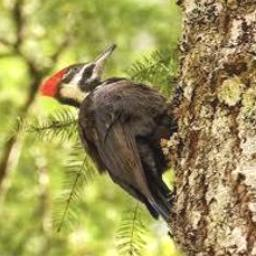Woodpecker: (40, 43, 179, 224)
